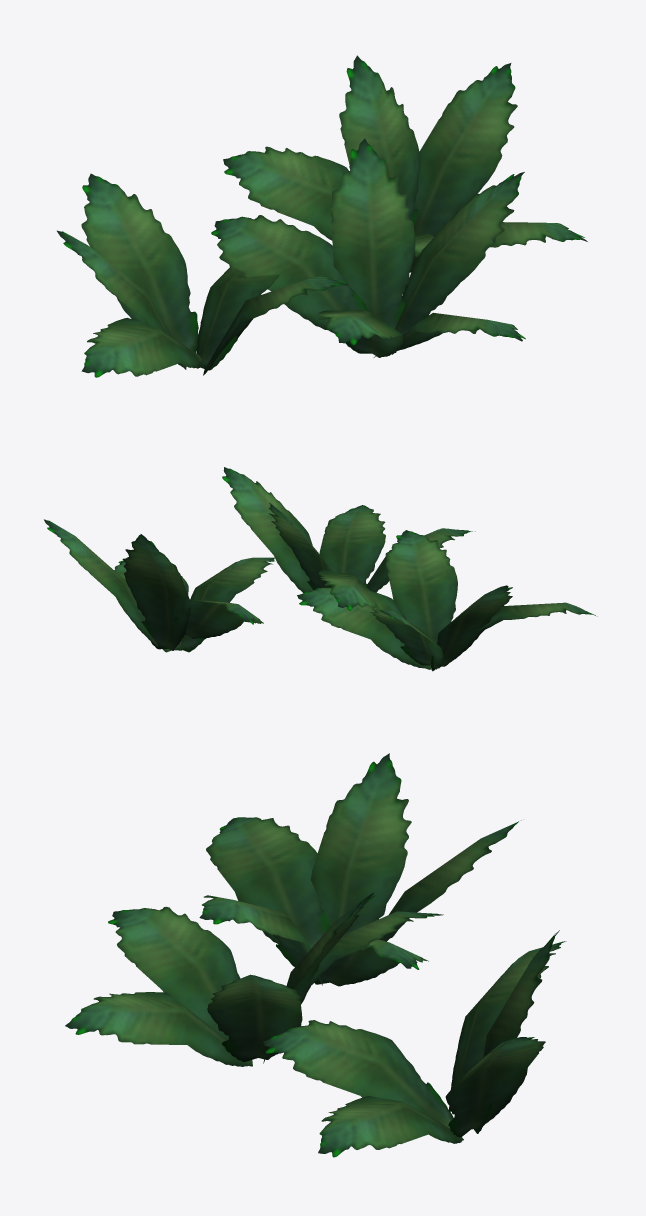
File: Battle01_Cao_03.FBX
3 views of the same model, one above another, from view 1: azimuth 30°, elevation 25°; view 2: azimuth 150°, elevation 25°; view 3: azimuth 270°, elevation 25° (orthographic). The views are drawn at different scales.
Parts seen in each view (by area): view 1: C01_Cao_03; view 2: C01_Cao_03; view 3: C01_Cao_03.
Part boxes in pixels (<box>): C01_Cao_03: <box>57,55,587,377</box>; C01_Cao_03: <box>44,467,597,671</box>; C01_Cao_03: <box>65,753,566,1157</box>.
Bounding box in the file's own units: 1.11 × 0.3628 × 0.8219.
